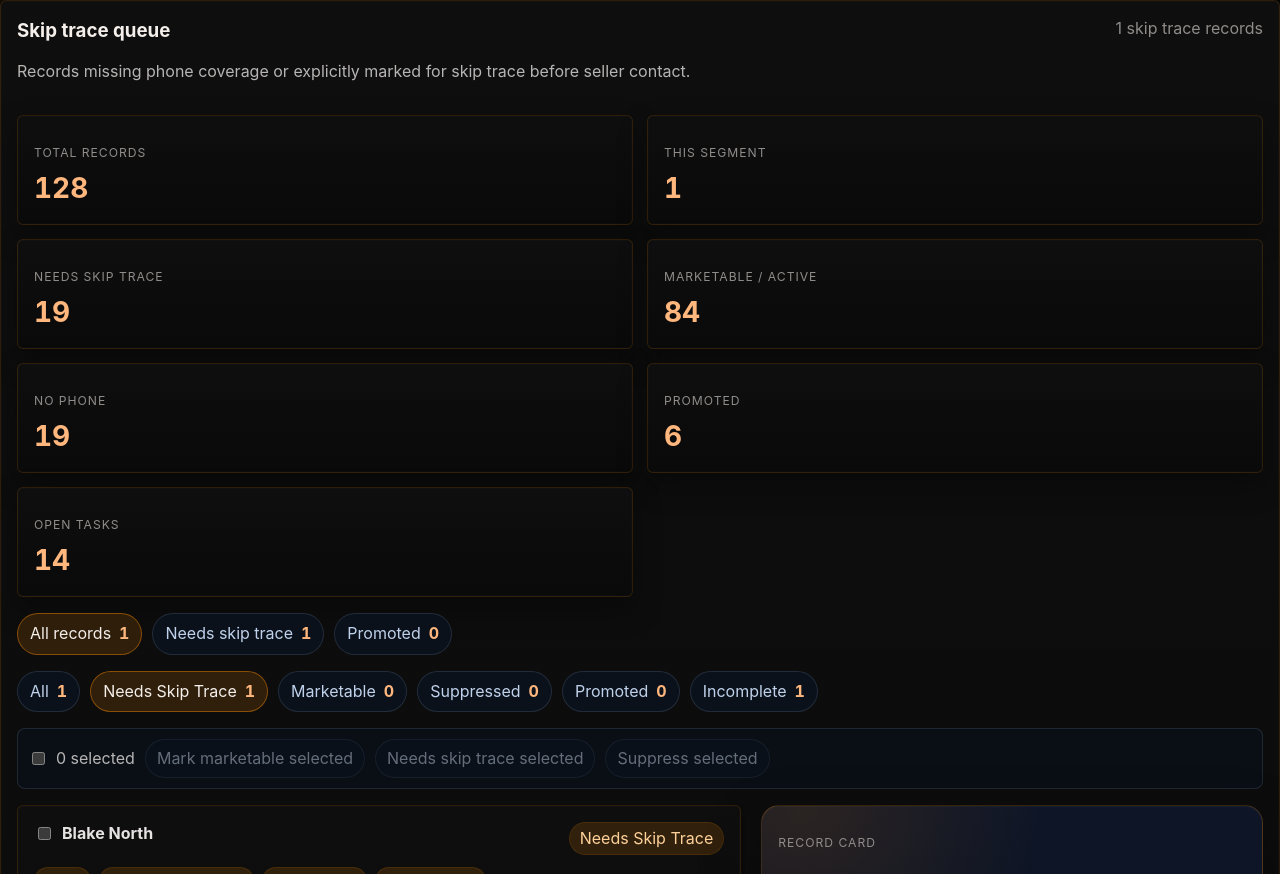
Test: RecordsPage › does not show an out-of-view detail card when a saved view has no matching visible records
Expected: the text "Blake North" is shown, [62,822,153,845]
Click the 1st button "Promoted 0": {"x": 393, "y": 634} [334,613,452,654]
(page scrolled)
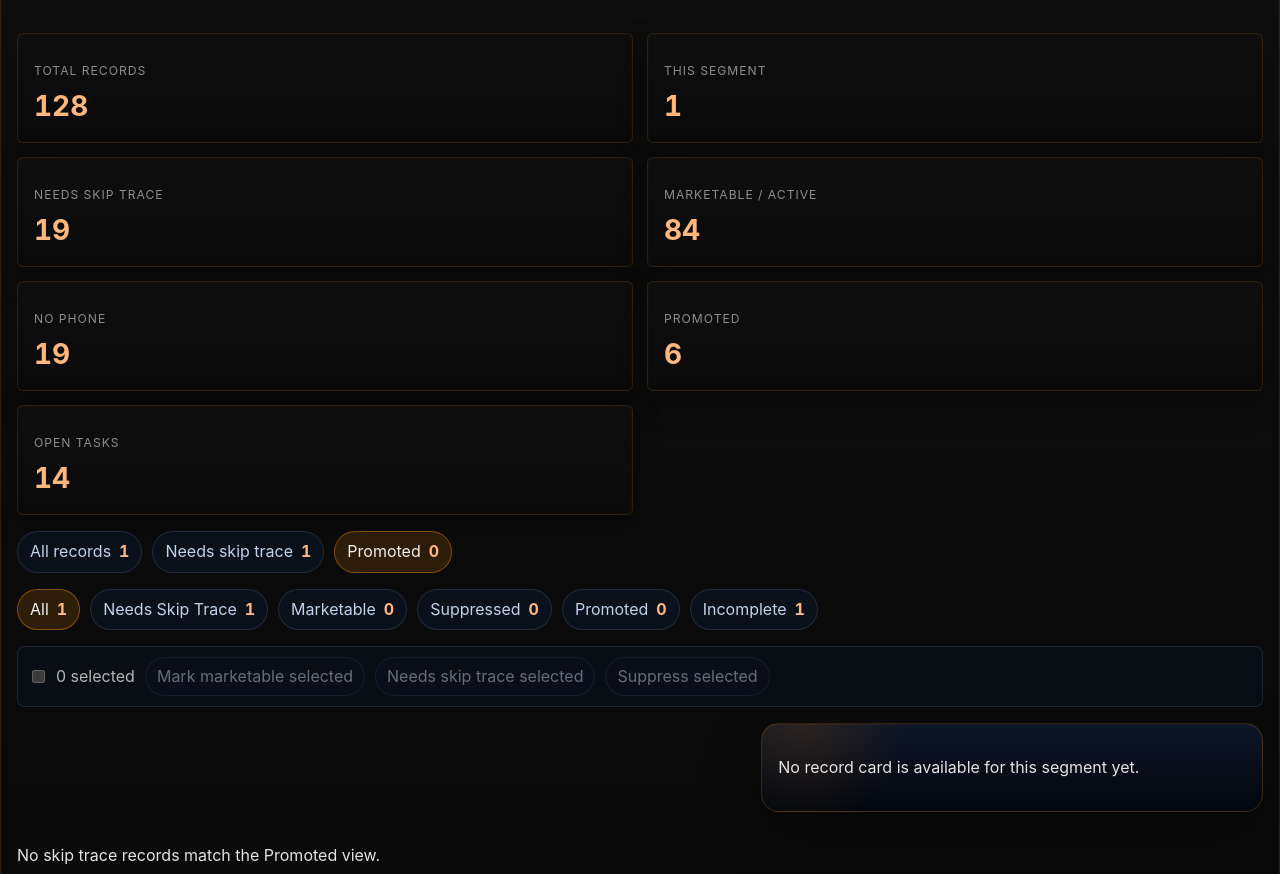
Expected: the text "No record card is available for this segment yet." is shown, [778,757,1139,777]
Expected: the text "No skip trace records match the Promoted view." is shown, [17,845,380,865]
